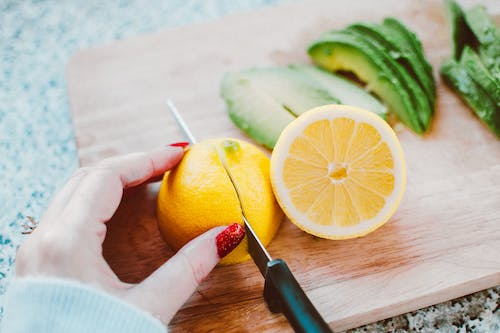knife: (163, 97, 335, 333)
